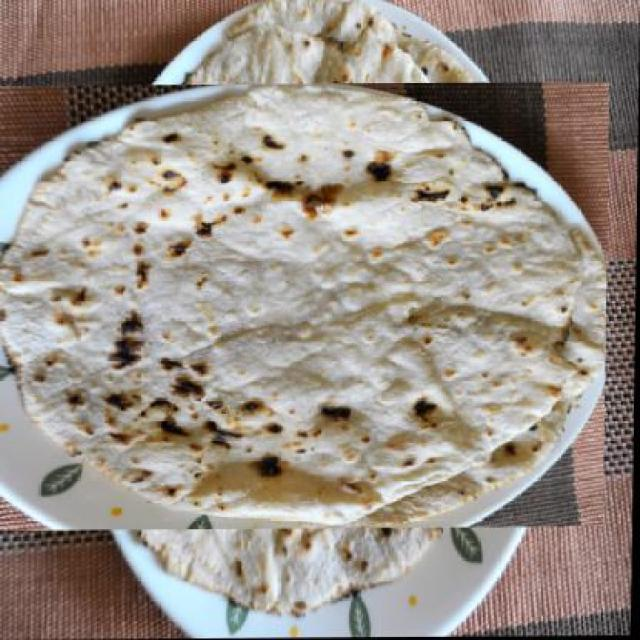chapati: (30, 40, 568, 575)
